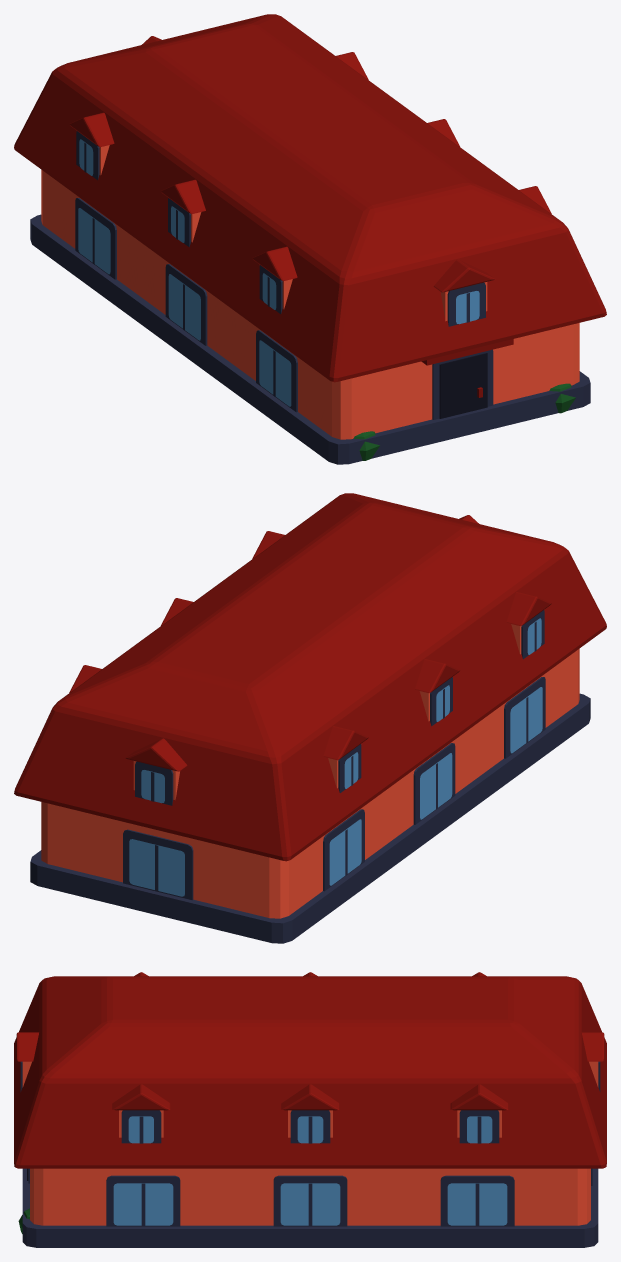
Rendered from house-1x2-1f-mansard-c.glb.
The picture shows the model from 3 angles, top to bottom: view 1: azimuth 30°, elevation 25°; view 2: azimuth 150°, elevation 25°; view 3: azimuth 270°, elevation 25°; orthographic projection. The views are drawn at different scales.
Visible parts, largest first — view 1: house-1x2-1f-mansard-c; view 2: house-1x2-1f-mansard-c; view 3: house-1x2-1f-mansard-c.
Part boxes in pixels (<box>): house-1x2-1f-mansard-c: <box>14,14,606,464</box>; house-1x2-1f-mansard-c: <box>14,493,606,943</box>; house-1x2-1f-mansard-c: <box>14,972,606,1247</box>.
Size of the model in its own units: 0.9876 by 0.7026 by 1.99.
1 material, 1 textured.
